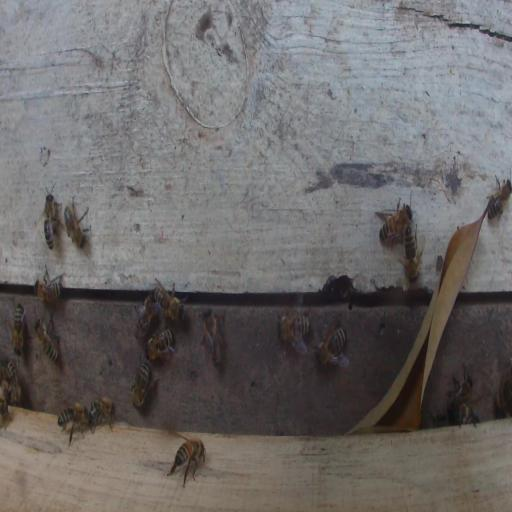nonpollenbee: (166, 434, 206, 488), (375, 197, 413, 243), (154, 278, 190, 324), (199, 307, 225, 369), (63, 195, 91, 248), (57, 402, 89, 447), (276, 310, 311, 350), (402, 222, 424, 284), (315, 325, 347, 367), (134, 292, 161, 340), (34, 263, 64, 306), (34, 317, 60, 365), (486, 174, 511, 221), (89, 396, 116, 433), (446, 372, 474, 407), (8, 302, 26, 356), (145, 329, 174, 362), (132, 360, 151, 409), (6, 359, 22, 405), (44, 190, 54, 249), (496, 379, 511, 416), (456, 402, 479, 426), (1, 396, 11, 429)
